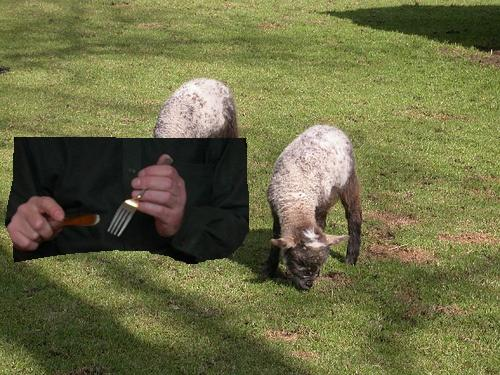tampered: (6, 138, 249, 264)
